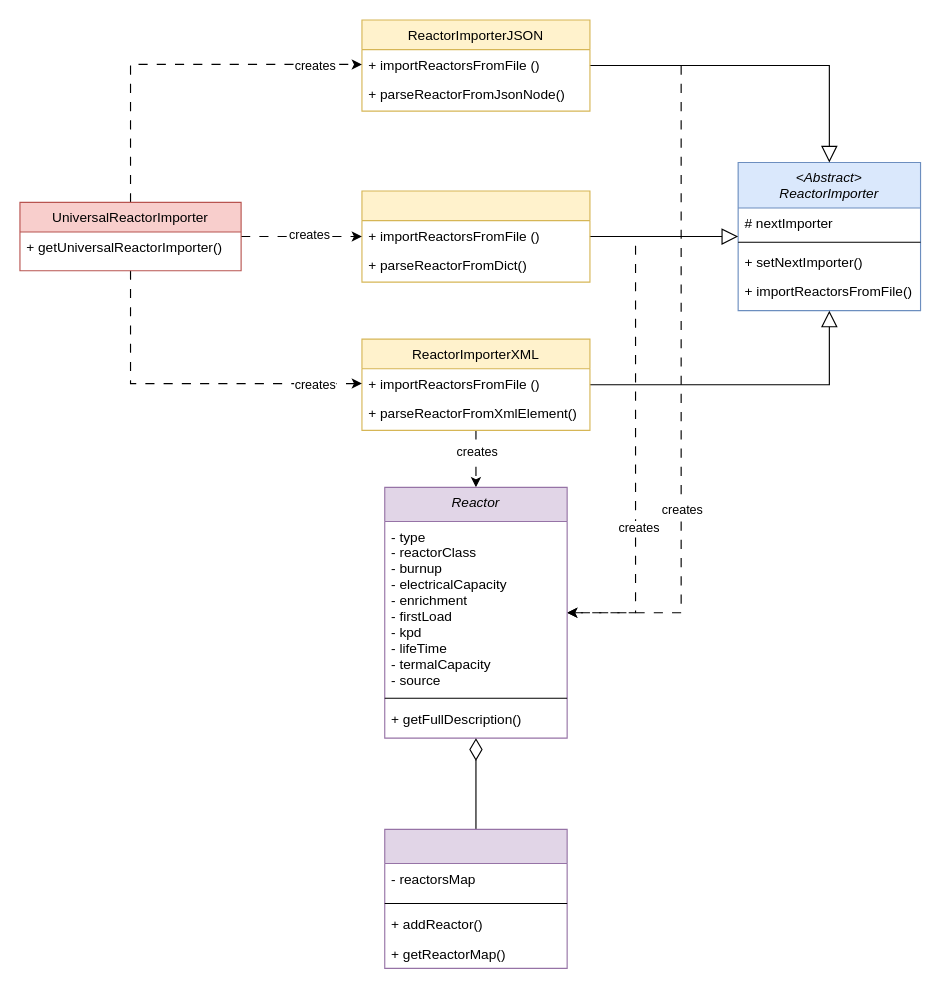
Image size: 941x992. Some labels were removed from this diagram. Each missing label, with the box of its shape:
ReactorImporterYAML: (361, 190, 590, 282)
ReactorsOwner: (384, 828, 567, 968)
